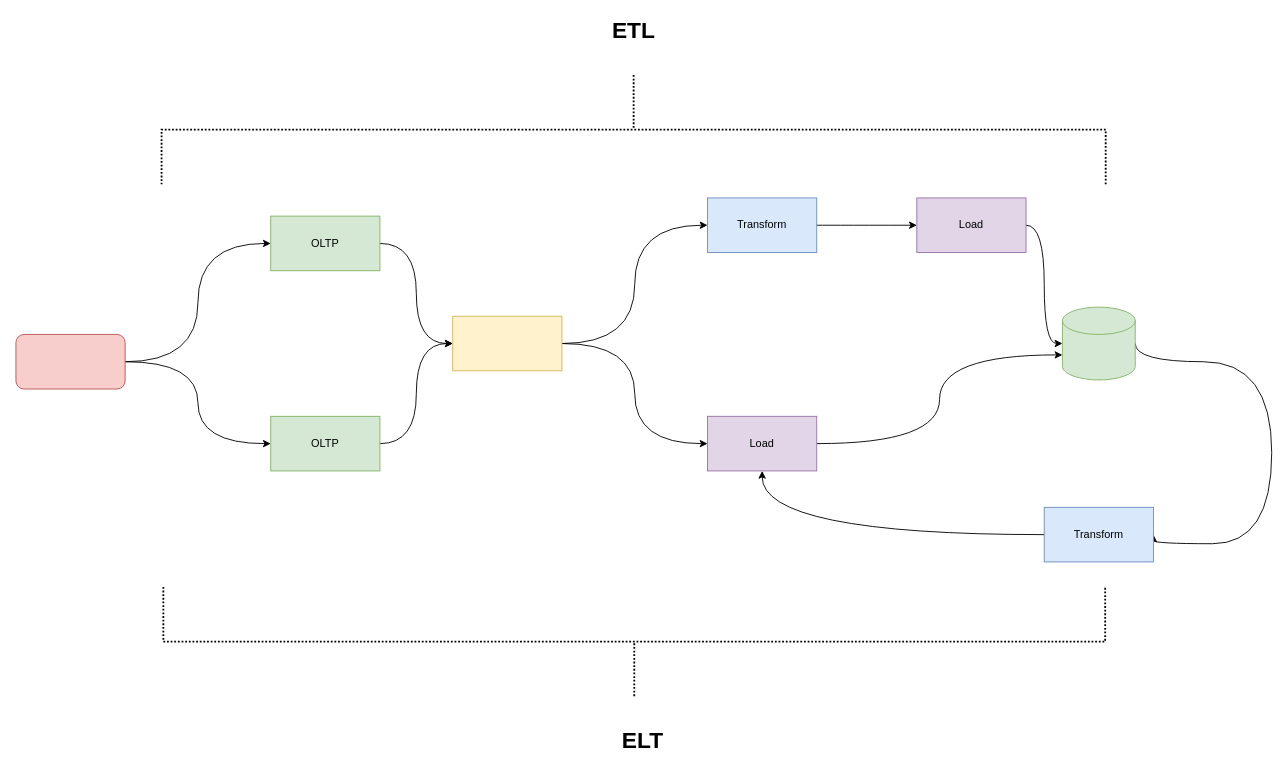
Image size: 1288x768. Some labels were removed from this diagram. Here are the shapes that lost their labels. From the top down, the centre of each, then its label:
pixel 70 361: Users system
pixel 507 343: Extract
pixel 1098 343: DWH/OLAP
